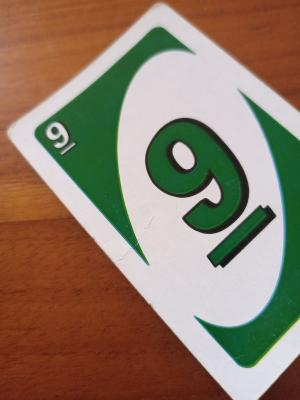green: (37, 114, 299, 264)
